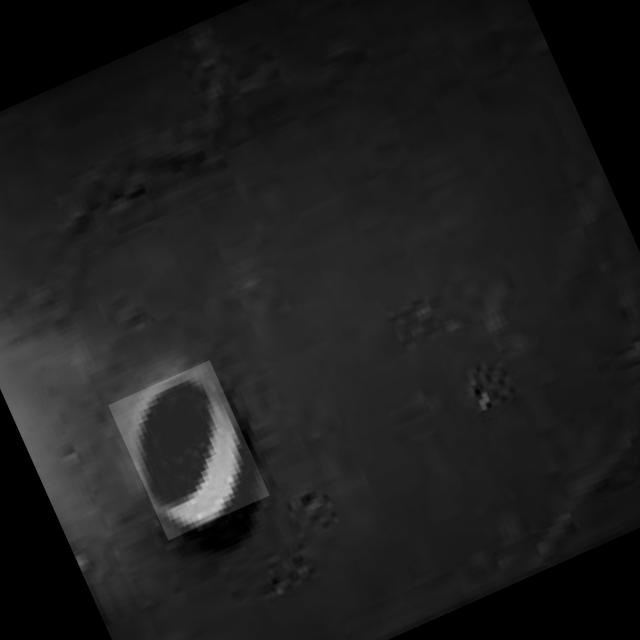crater: (109, 360, 270, 540)
